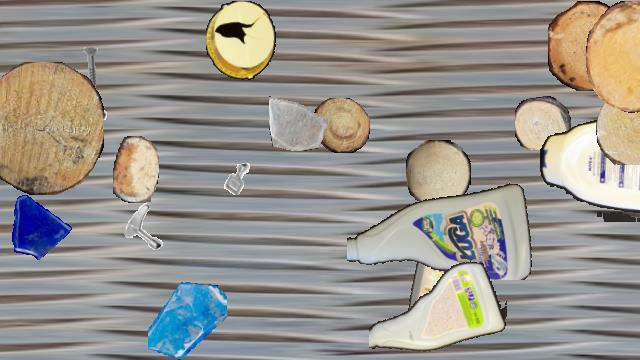glass: (148, 281, 226, 359), (2, 189, 72, 259), (269, 92, 327, 150)
metal: (55, 99, 117, 161), (118, 200, 172, 254), (67, 45, 115, 93), (216, 157, 260, 201)
plastic: (347, 176, 535, 280), (369, 257, 507, 359), (540, 118, 640, 222), (403, 217, 469, 339), (206, 1, 276, 79), (632, 1, 640, 159)
wood: (0, 62, 104, 194), (548, 1, 630, 91), (586, 1, 640, 113), (406, 140, 470, 204), (596, 84, 640, 164), (113, 136, 159, 202), (313, 98, 369, 152), (515, 96, 571, 150)
